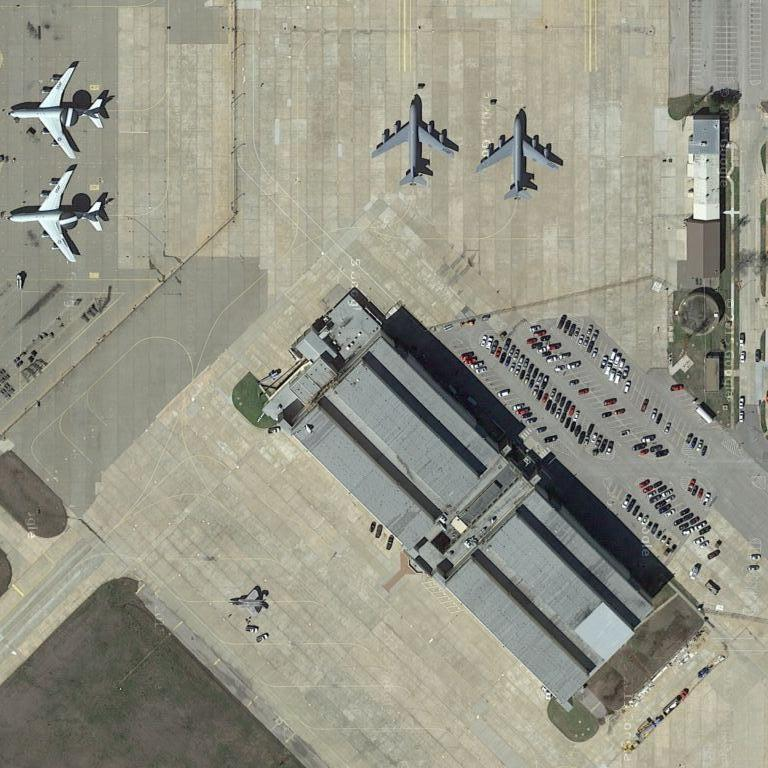E-3: (9, 60, 116, 166), (6, 163, 114, 268)
F-22: (226, 581, 272, 619)
KC-135: (473, 107, 567, 206), (369, 93, 463, 192)
